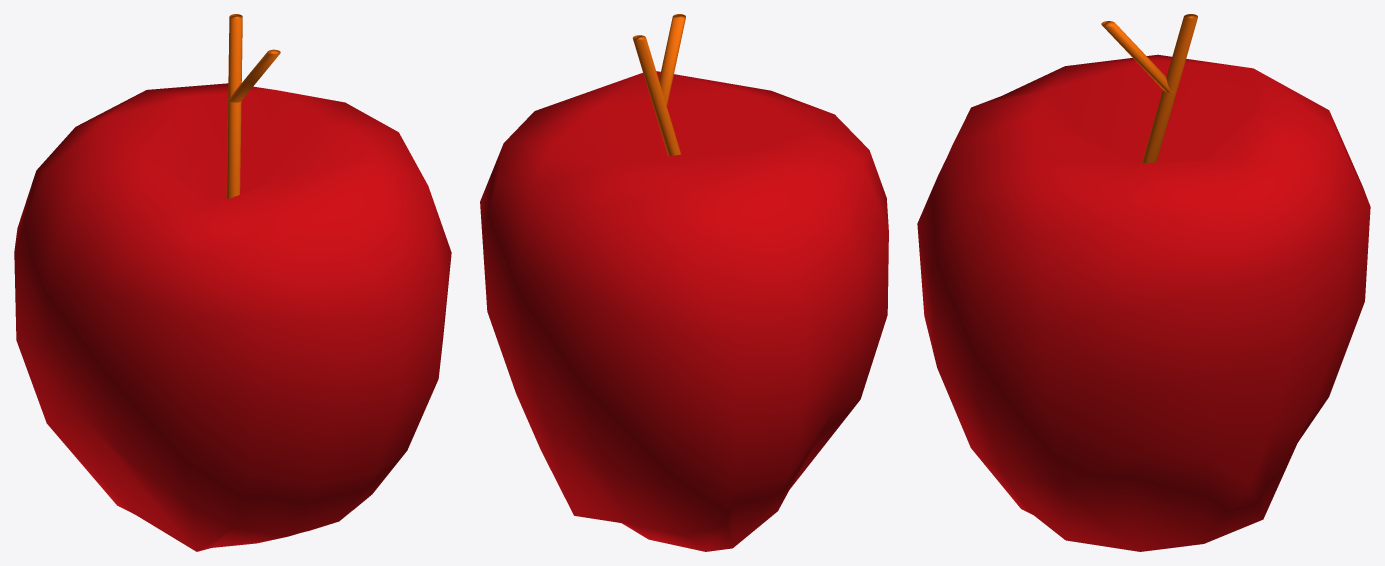
The model's file is apple.obj.
3 views of the same model, side by side, from view 1: azimuth 30°, elevation 25°; view 2: azimuth 150°, elevation 25°; view 3: azimuth 270°, elevation 25° (orthographic). The views are drawn at different scales.
Parts seen in each view (by area): view 1: Cube, Cilindro, Cilindro.001; view 2: Cube, Cilindro, Cilindro.001; view 3: Cube, Cilindro, Cilindro.001.
Part boxes in pixels (x1,y1,x2,y2): Cube: (14, 83, 451, 551); Cilindro: (226, 14, 242, 199); Cilindro.001: (230, 49, 280, 102); Cube: (480, 71, 888, 551); Cilindro: (632, 35, 681, 156); Cilindro.001: (659, 14, 685, 107); Cube: (917, 54, 1370, 551); Cilindro: (1142, 14, 1197, 163); Cilindro.001: (1101, 21, 1175, 92).
Size of the model in its own units: 3.03 by 3.81 by 3.07.
